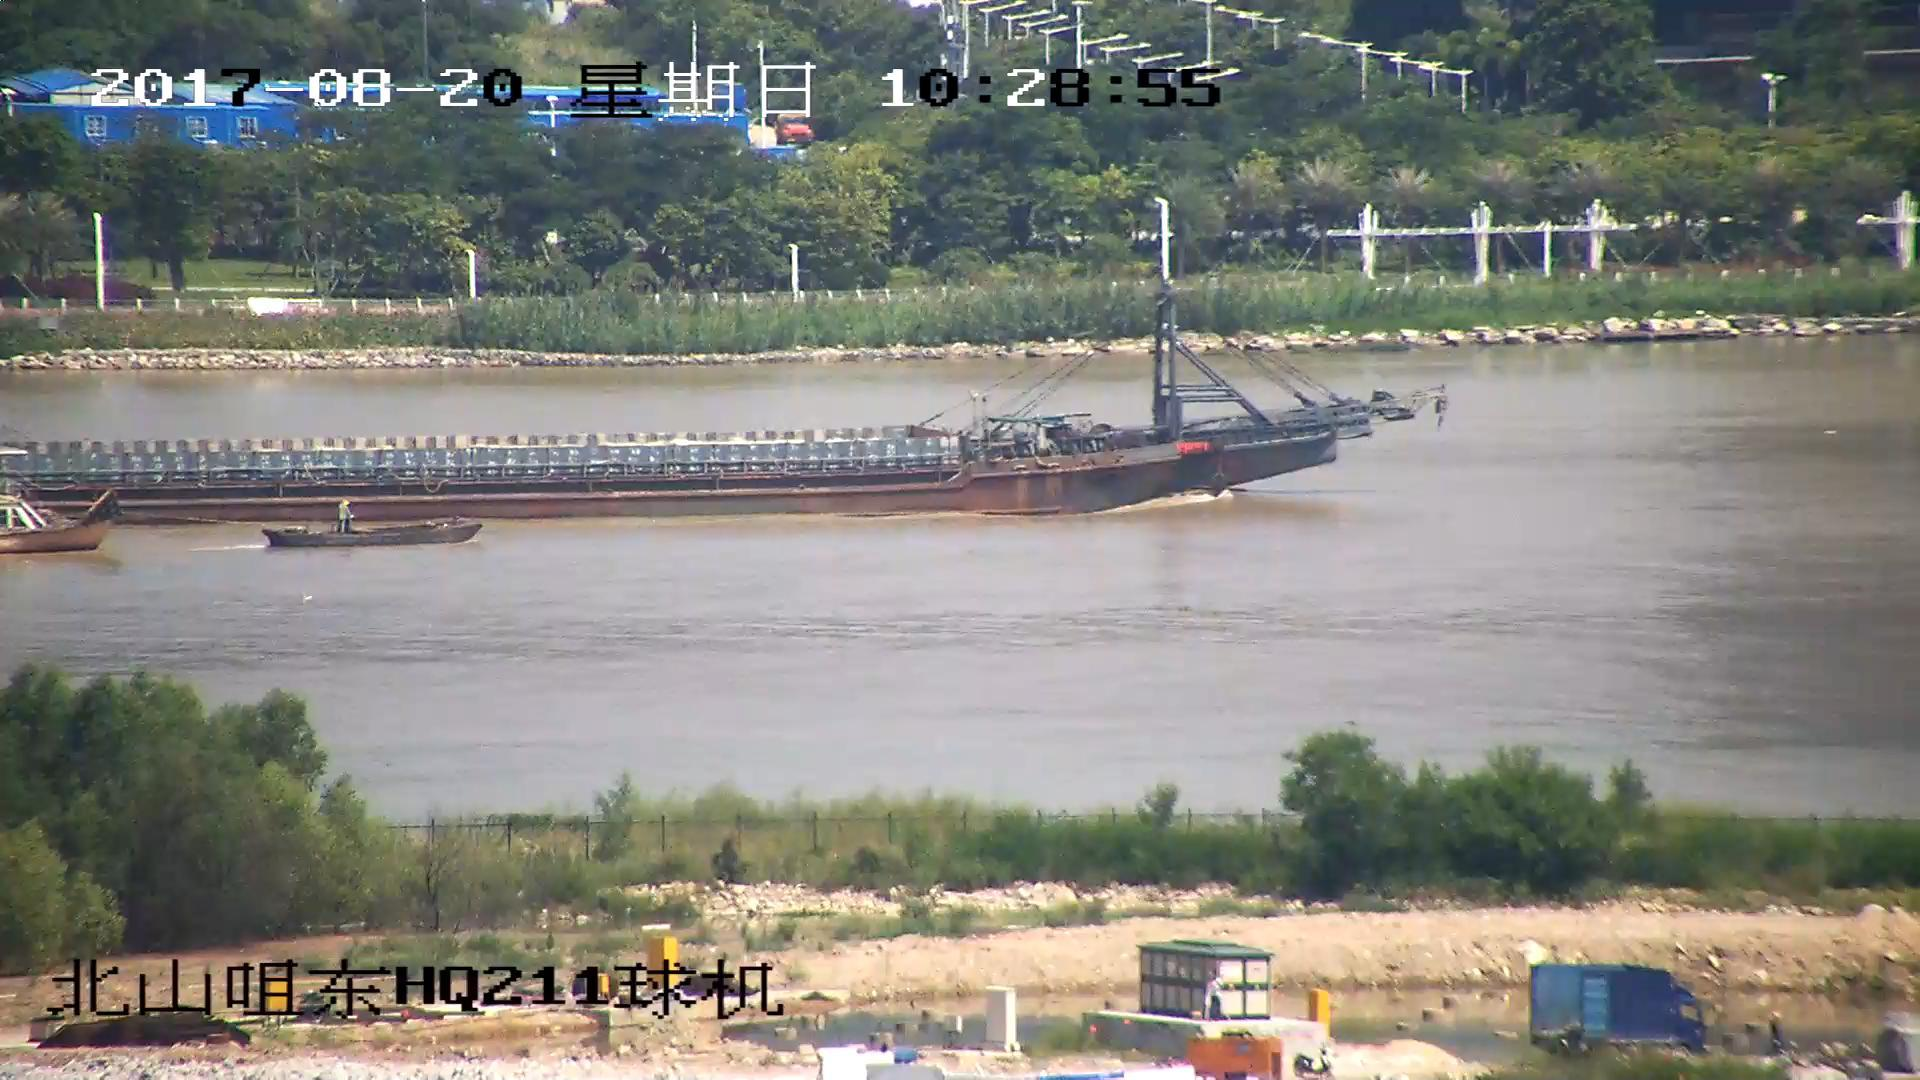Ship: (3, 276, 1437, 522), (262, 502, 475, 553)
